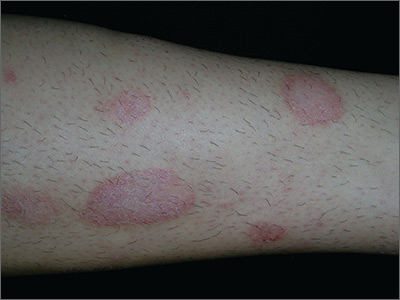Eczema: (44, 61, 347, 242)
